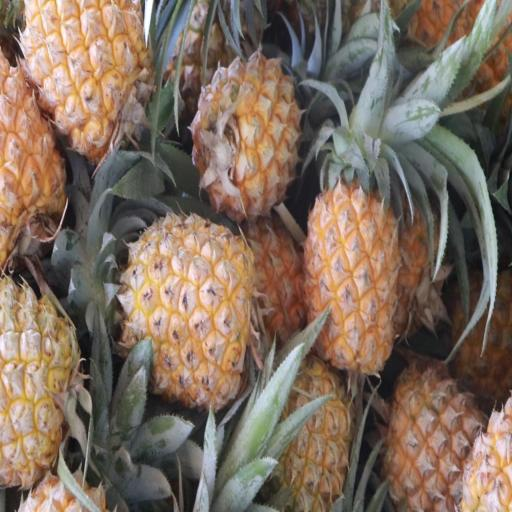------------------------------: (386, 370, 489, 512)
Pineapple - v8 v1: (124, 211, 254, 400), (300, 176, 398, 376), (22, 0, 151, 149), (195, 52, 297, 211), (0, 284, 81, 480), (0, 41, 67, 258), (266, 368, 350, 512)
